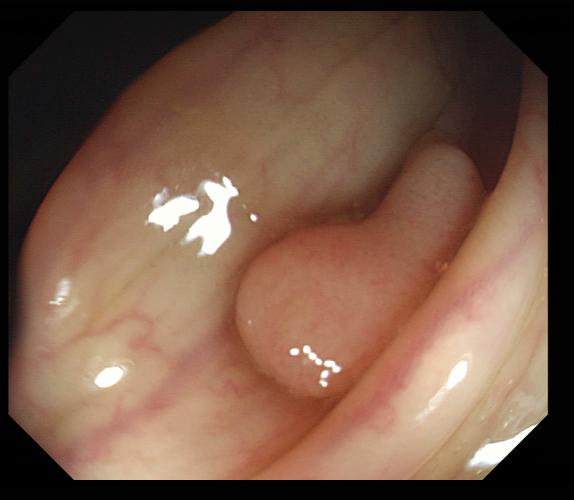polyp: (229, 145, 484, 403)
